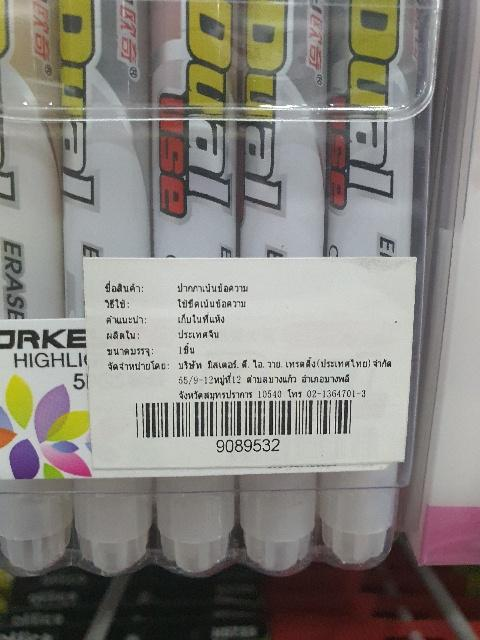Barcode: (126, 394, 365, 456)
